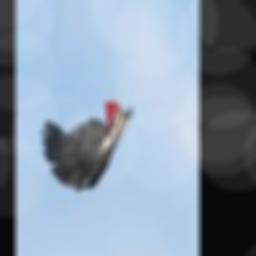Woodpecker: (39, 100, 132, 188)
